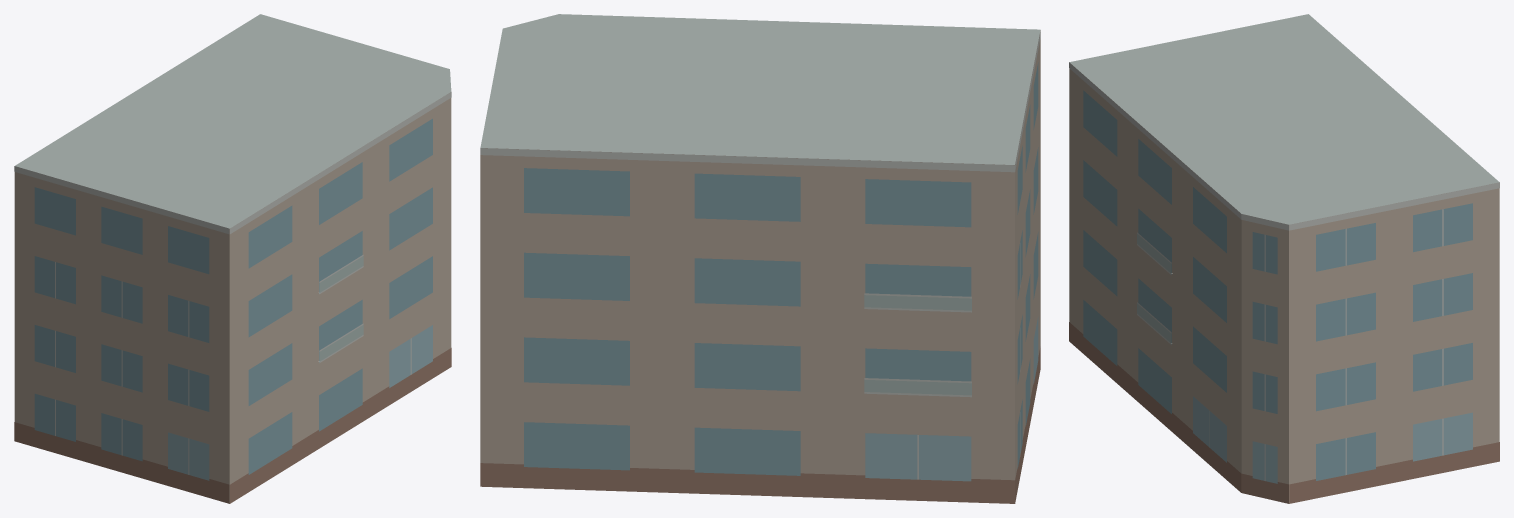
Rendered from survey-upis-32707372.glb.
3 renders of one model, left to right at view 1: azimuth 30°, elevation 25°; view 2: azimuth 150°, elevation 25°; view 3: azimuth 270°, elevation 25°, orthographic. The views are drawn at different scales.
Visible parts, largest first — view 1: survey-upis-32707372.tmp; view 2: survey-upis-32707372.tmp; view 3: survey-upis-32707372.tmp.
Part boxes in pixels (<box>): survey-upis-32707372.tmp: <box>14,14,451,503</box>; survey-upis-32707372.tmp: <box>480,14,1040,503</box>; survey-upis-32707372.tmp: <box>1069,14,1499,503</box>.
Size of the model in its own units: 18.63 by 11.5 by 16.09.
